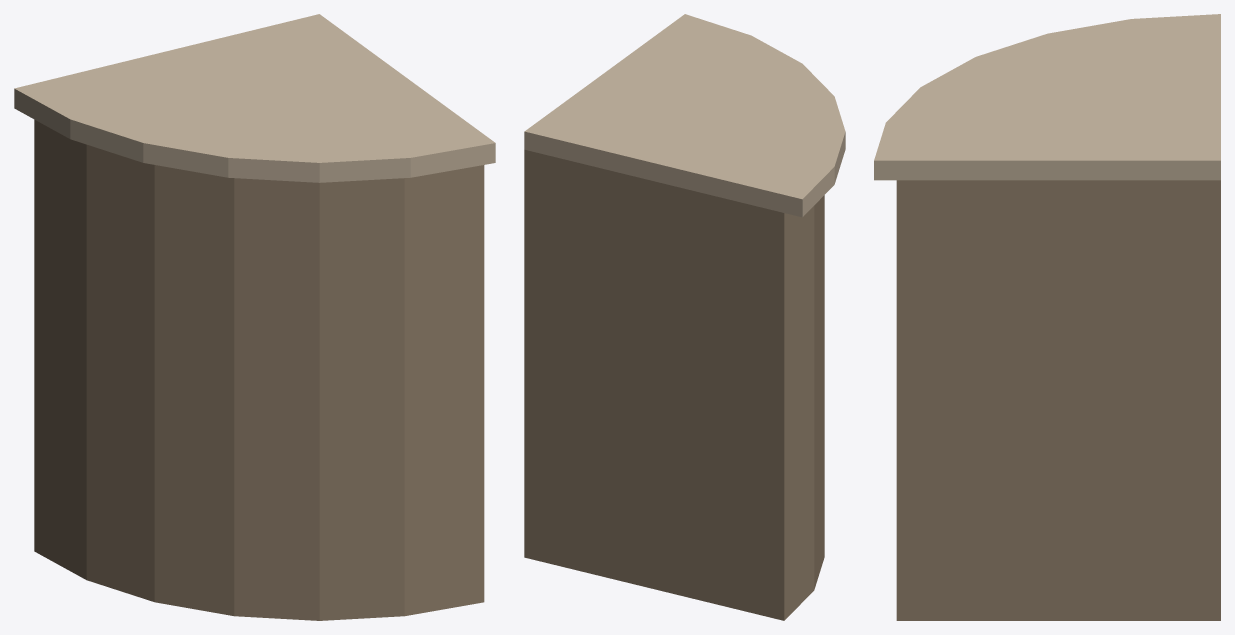
File: city_curb_corner.glb
3 views of the same model, side by side, from view 1: azimuth 30°, elevation 25°; view 2: azimuth 150°, elevation 25°; view 3: azimuth 270°, elevation 25° (orthographic). The views are drawn at different scales.
Parts seen in each view (by area): view 1: CityCurbCorner_Kerb, CityCurbCorner_KerbTop; view 2: CityCurbCorner_Kerb, CityCurbCorner_KerbTop; view 3: CityCurbCorner_Kerb, CityCurbCorner_KerbTop.
Boxes of the visible parts, x1,y1,x2,y2 form: CityCurbCorner_Kerb: (34,119,484,620); CityCurbCorner_KerbTop: (14,14,495,182); CityCurbCorner_Kerb: (524,149,824,620); CityCurbCorner_KerbTop: (524,14,845,217); CityCurbCorner_Kerb: (896,180,1220,620); CityCurbCorner_KerbTop: (874,14,1220,180).
Size of the model in its own units: 0.321 by 0.47 by 0.321.
